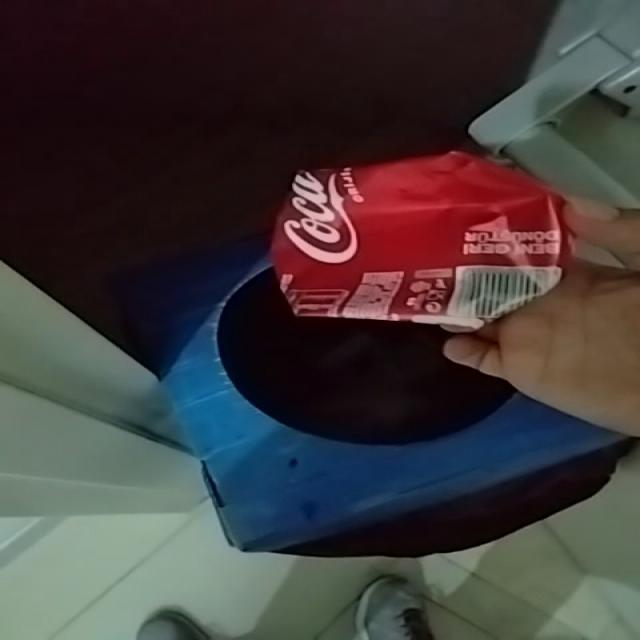bin: (120, 241, 632, 558)
metal: (271, 151, 569, 329)
